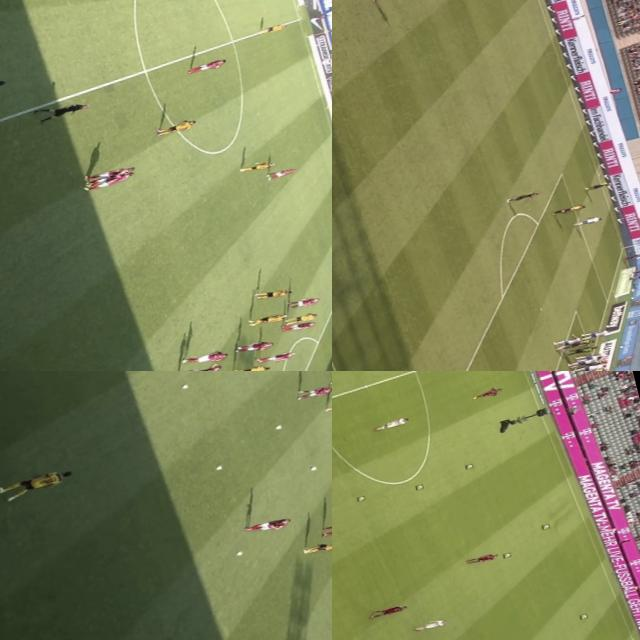ball: (414, 482, 426, 492), (210, 464, 223, 473), (502, 552, 515, 560), (233, 550, 244, 558), (462, 464, 473, 472), (578, 614, 588, 622), (355, 495, 364, 502), (542, 522, 552, 528), (179, 384, 188, 390), (274, 424, 283, 429), (311, 464, 318, 470)
player: (0, 466, 73, 503), (180, 346, 230, 369), (86, 162, 138, 182), (242, 516, 290, 536), (85, 170, 136, 188), (154, 118, 197, 136), (296, 537, 332, 558), (235, 338, 276, 356), (255, 350, 299, 366), (407, 618, 448, 634), (254, 286, 294, 302), (298, 383, 332, 401), (552, 331, 584, 350), (372, 417, 410, 433), (278, 318, 318, 333), (238, 159, 274, 175), (280, 312, 316, 328), (463, 551, 501, 566), (567, 354, 602, 370), (250, 311, 286, 326), (265, 165, 298, 181), (562, 336, 596, 351), (191, 58, 227, 72), (504, 190, 539, 204), (374, 604, 406, 619), (570, 214, 604, 228), (573, 351, 609, 364), (287, 296, 320, 310), (471, 387, 501, 402), (230, 361, 272, 371), (314, 519, 332, 540), (178, 362, 219, 371), (580, 328, 609, 340), (257, 22, 285, 34), (582, 181, 610, 193), (573, 361, 606, 371), (366, 0, 418, 5), (570, 366, 608, 371), (622, 252, 640, 261), (324, 399, 332, 415)
